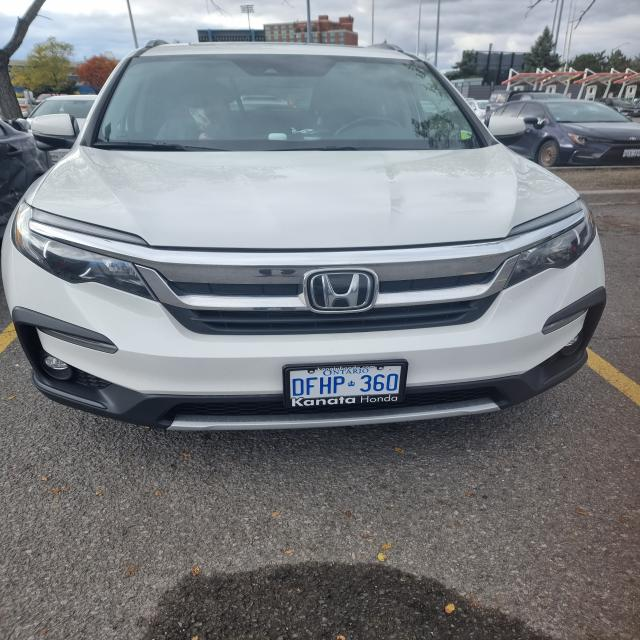plaque: (284, 361, 407, 409), (49, 150, 69, 163), (623, 149, 639, 157)
